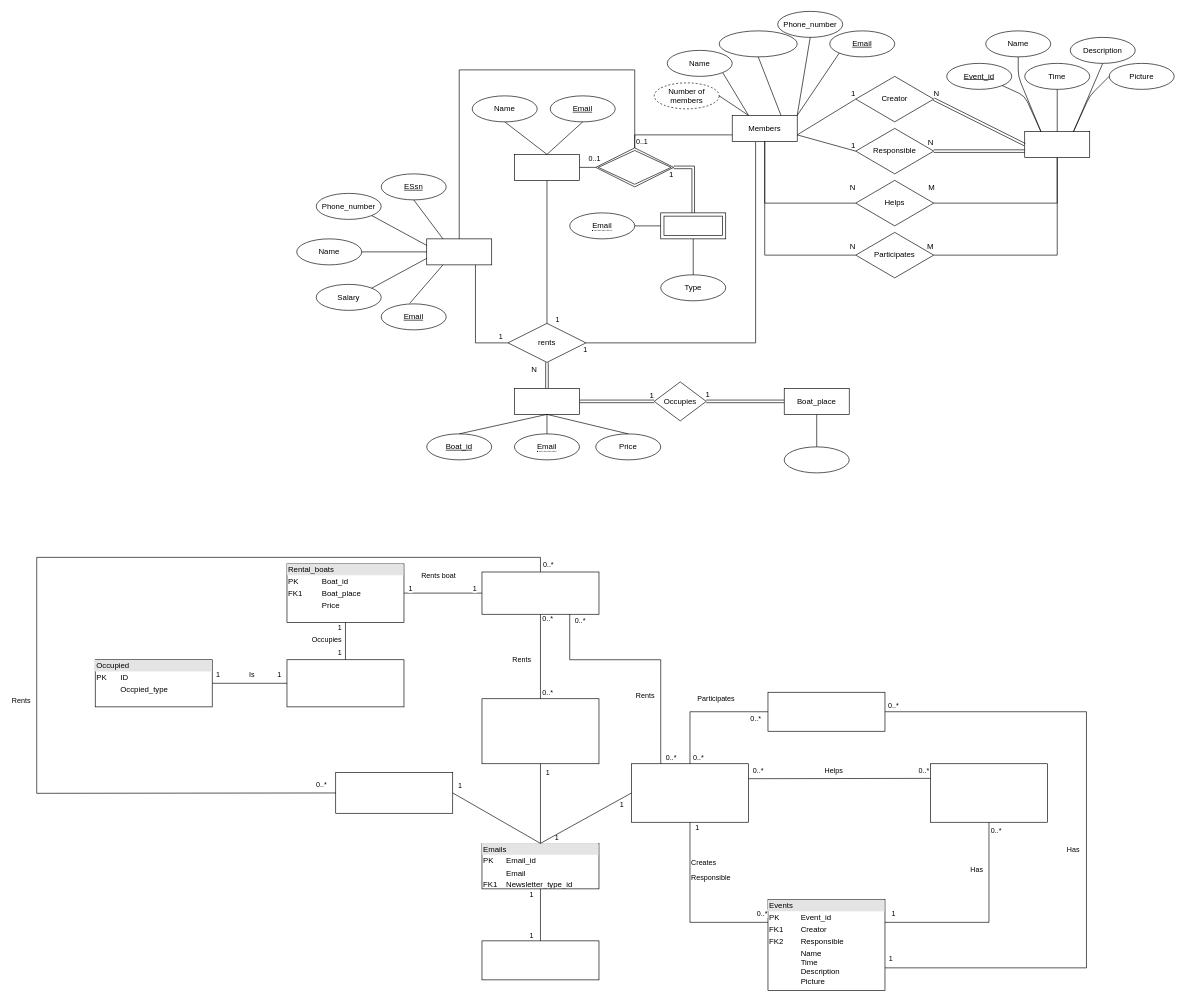
Image size: 1186x1002. Some labels were removed from this diagram. The box of each missing label's shape, as (x1, y1, x2, y2) in pixels:
Boat_place PK Place_number FK1 Occupied_id: (286, 659, 404, 707)
Employees: (426, 238, 492, 265)
Employees PK ESsn Salary Name Phone_number FK1 Email_id: (481, 698, 599, 764)
Event_helpers FK1 Member_number FK2 Event_id: (930, 763, 1047, 822)
Event_paticipant FK1 Member_number FK2 Event_id: (767, 692, 885, 731)
Events: (1024, 131, 1090, 158)
Joined_newsletter: (595, 147, 674, 187)
Member_number: (719, 30, 797, 57)
Members PK Member_number Name Phone_number FK1 Email_id: (631, 763, 748, 822)
Newsletter: (660, 212, 726, 239)
Newsletter_type PK Type_id Type: (481, 940, 599, 980)
Non-members FK Email_id Name: (335, 772, 453, 813)
Non_members: (514, 154, 579, 180)
Place_number: (784, 446, 849, 473)
Rental_boats: (514, 388, 579, 414)
Renter FK1 Email_id FK2 Boat_id: (481, 571, 599, 614)
